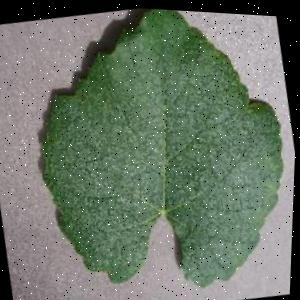Folha: (12, 1, 300, 300)
